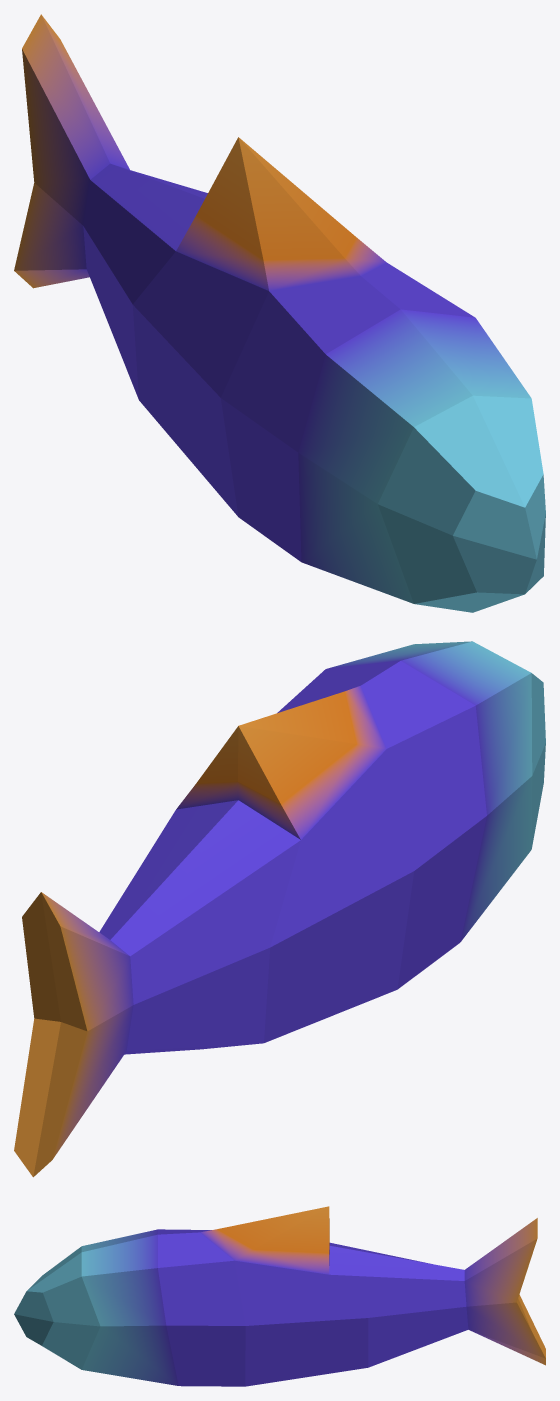
The model's file is lowPolyFish.fbx.
3 renders of one model, top to bottom at view 1: azimuth 30°, elevation 25°; view 2: azimuth 150°, elevation 25°; view 3: azimuth 270°, elevation 25°, orthographic. The views are drawn at different scales.
Parts seen in each view (by area): view 1: LowPolyFish; view 2: LowPolyFish; view 3: LowPolyFish.
Part boxes in pixels (x1,y1,x2,y2): LowPolyFish: [14, 14, 545, 612]; LowPolyFish: [14, 641, 545, 1177]; LowPolyFish: [14, 1206, 545, 1386].
Bounding box in the file's own units: 0.6228 × 1.02 × 2.81.
